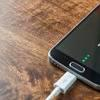Smartphone: (49, 2, 100, 91)
